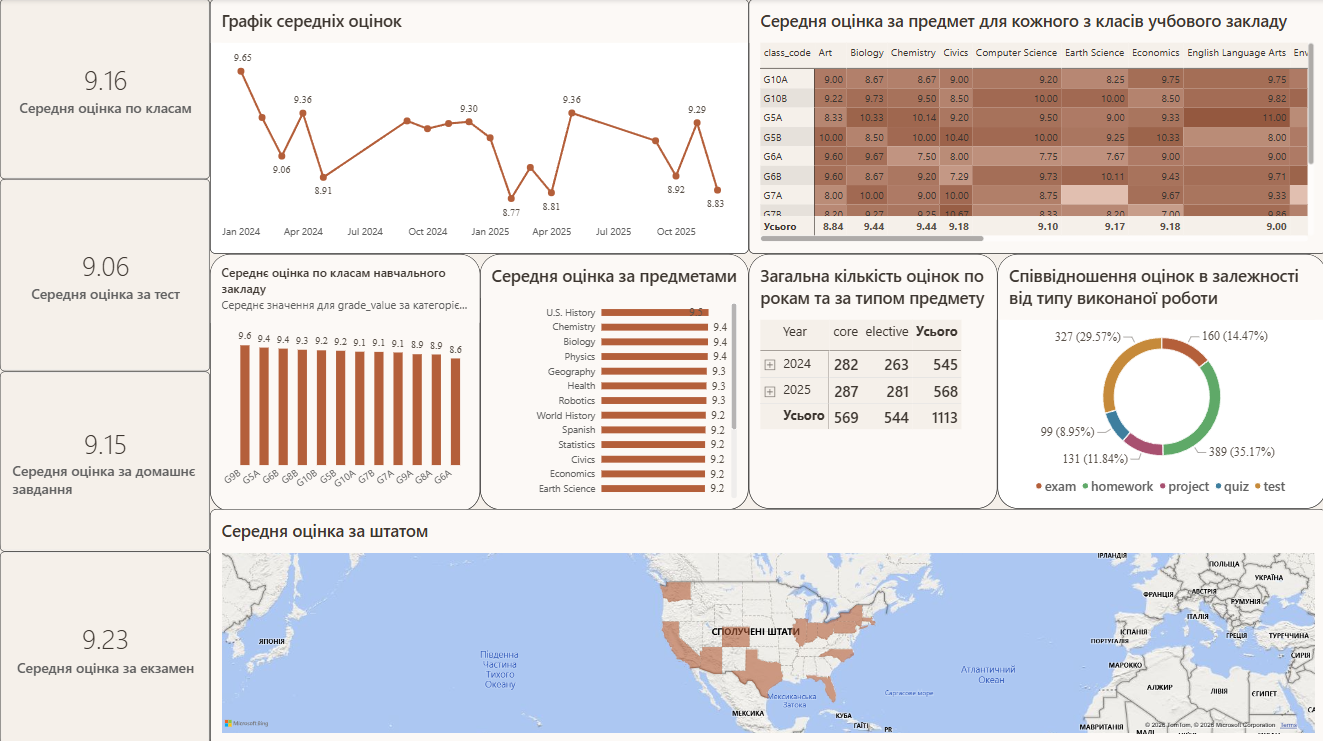

The dashboard page shown, as its layout file describes it:
{"tool":"powerbi","page":{"name":"Academic Performance Overview","canvas":[1920,1080],"ordinal":0},"visuals":[{"type":"lineChart","title":"Графік середніх оцінок","fields":{"Category":["calendar.Year-Month.Варіація.Ієрархія дат.Рік"],"Y":["Avg(grades.grade_value)"]},"box":[304,0,780,369.2],"z":0},{"type":"donutChart","title":"Співвідношення оцінок в залежності від типу виконаної роботи","fields":{"Series":["grades.grade_type"],"Y":["CountNonNull(grades.grade_id)"]},"box":[1444.1,369.2,475.9,369.2],"z":1000},{"type":"clusteredBarChart","title":"Середня оцінка за предметами","fields":{"Category":["subjects.subject_name"],"Y":["Avg(grades.grade_value)"]},"box":[695.7,368.4,389,370.5],"z":2000},{"type":"cardVisual","fields":{"Data":["Avg(grades.grade_value)"]},"box":[0,0,304,260.6],"z":3000},{"type":"cardVisual","fields":{"Data":["Avg(grades.grade_value)"]},"box":[0,799.9,304,280.5],"z":4000},{"type":"cardVisual","fields":{"Data":["Avg(grades.grade_value)"]},"box":[0,260.6,304,278.7],"z":5000},{"type":"cardVisual","fields":{"Data":["Avg(grades.grade_value)"]},"box":[0,539.3,304,260.6],"z":6000},{"type":"clusteredColumnChart","title":"Середнє оцінка по класам навчального закладу","fields":{"Category":["classes.class_code"],"Y":["Avg(grades.grade_value)"]},"box":[304,369.2,390.9,372.8],"z":7000},{"type":"pivotTable","title":"Середня оцінка за предмет для кожного з класів учбового закладу ","fields":{"Columns":["subjects.subject_name"],"Rows":["classes.class_code"],"Values":["Avg(grades.grade_value)"]},"box":[1084.7,0,835.7,368.4],"z":8000},{"type":"pivotTable","title":"Загальна кількість оцінок по рокам та за типом предмету","fields":{"Columns":["subjects.subject_type"],"Rows":["calendar.Year","calendar.Month"],"Values":["CountNonNull(grades.grade_id)"]},"box":[1084,369.2,360.1,369.2],"z":9000},{"type":"filledMap","title":"Середня оцінка за штатом","fields":{"Category":["students.state"]},"box":[304,738.3,1616,342],"z":10000}]}

Visuals, with their boxes in screenshot pixels (x1, y1, x2, y2), scaled from the page's 1920x1080 canvas onto the 1323x741 screenshot:
"Графік середніх оцінок" lineChart: {"left": 209, "top": 0, "right": 747, "bottom": 253}
"Співвідношення оцінок в залежності від типу виконаної роботи" donutChart: {"left": 995, "top": 253, "right": 1322, "bottom": 507}
"Середня оцінка за предметами" clusteredBarChart: {"left": 479, "top": 253, "right": 747, "bottom": 507}
cardVisual - Avg(grades.grade_value): {"left": 0, "top": 0, "right": 209, "bottom": 179}
cardVisual - Avg(grades.grade_value): {"left": 0, "top": 549, "right": 209, "bottom": 740}
cardVisual - Avg(grades.grade_value): {"left": 0, "top": 179, "right": 209, "bottom": 370}
cardVisual - Avg(grades.grade_value): {"left": 0, "top": 370, "right": 209, "bottom": 549}
"Середнє оцінка по класам навчального закладу" clusteredColumnChart: {"left": 209, "top": 253, "right": 479, "bottom": 509}
"Середня оцінка за предмет для кожного з класів учбового закладу " pivotTable: {"left": 747, "top": 0, "right": 1322, "bottom": 253}
"Загальна кількість оцінок по рокам та за типом предмету" pivotTable: {"left": 747, "top": 253, "right": 995, "bottom": 507}
"Середня оцінка за штатом" filledMap: {"left": 209, "top": 507, "right": 1322, "bottom": 740}
